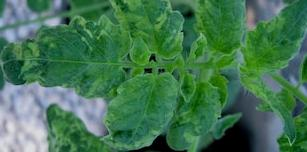Tomato leaf mosaic virus: (0, 15, 138, 101), (104, 67, 187, 152), (235, 0, 307, 78), (107, 0, 184, 63), (195, 0, 248, 57)
